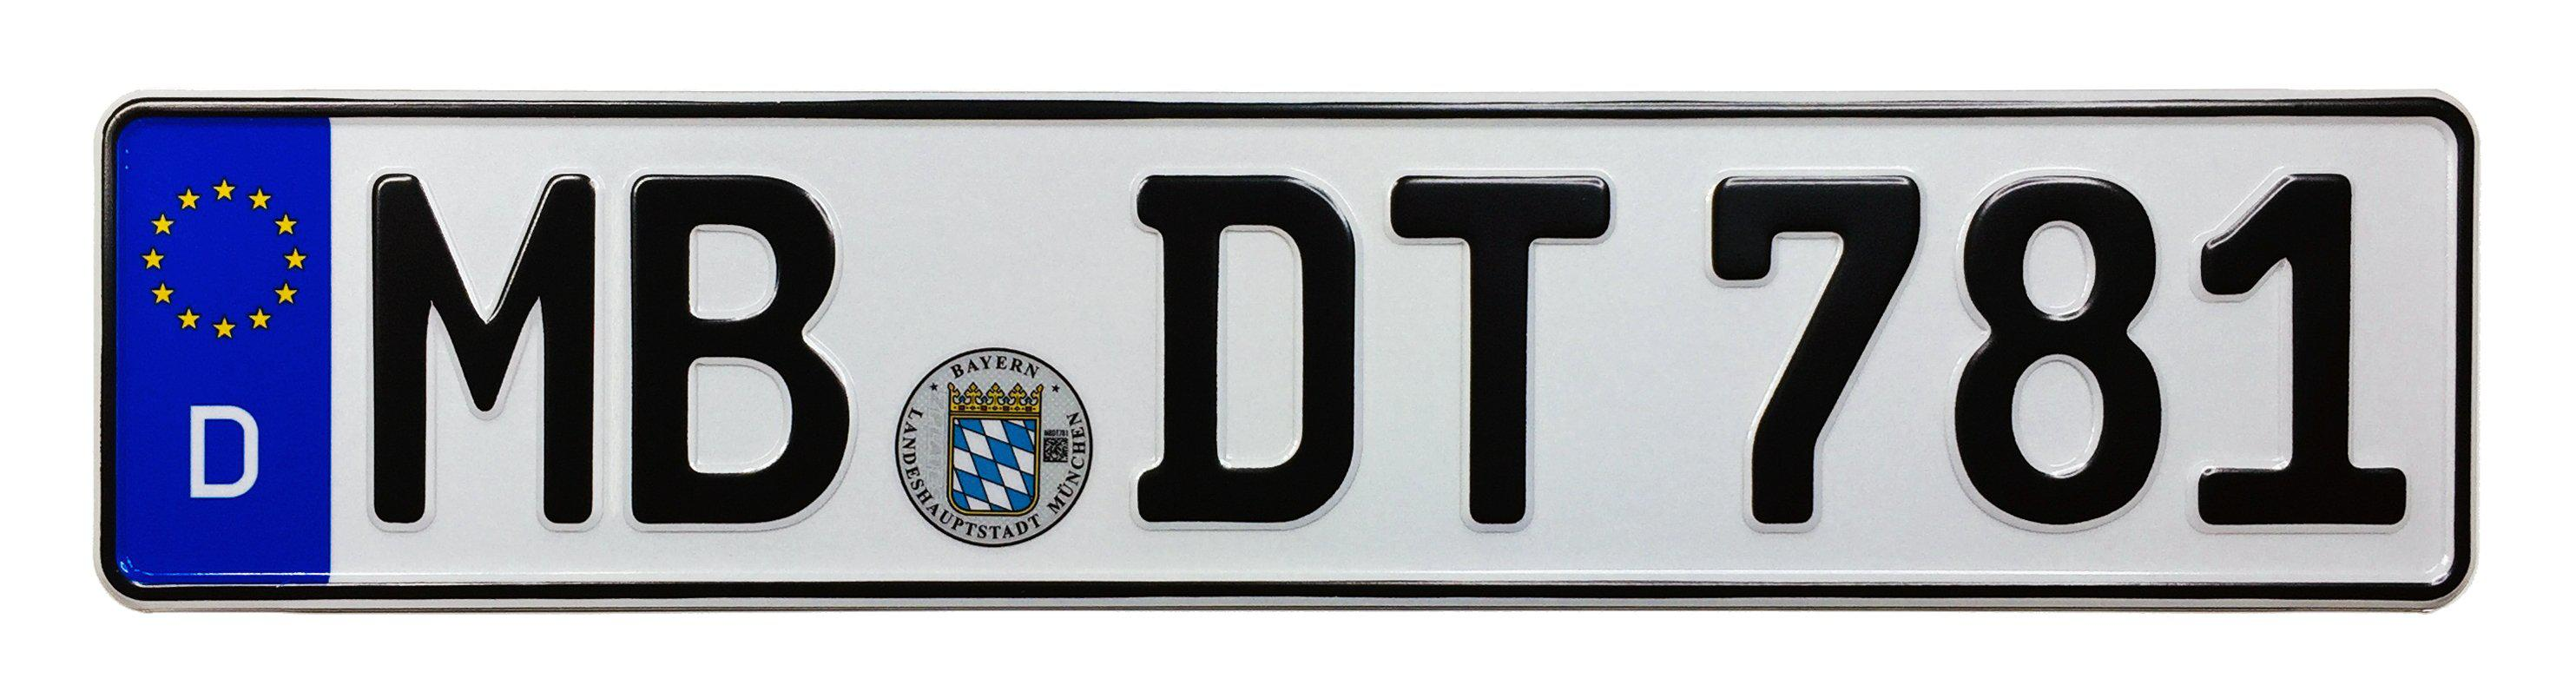1: (2192, 161, 2415, 537)
7: (1695, 160, 1933, 544)
8: (1946, 170, 2168, 538)
B: (619, 161, 859, 530)
D: (1127, 165, 1366, 537)
M: (354, 160, 607, 535)
T: (1377, 160, 1621, 536)
